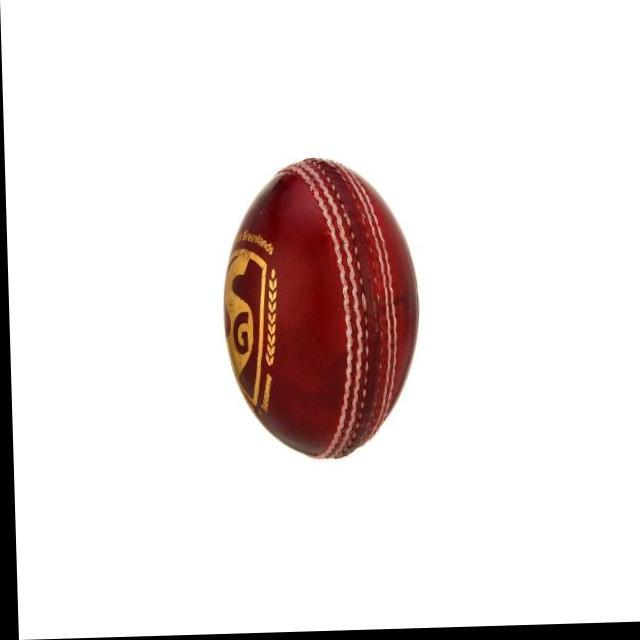cricket ball: (222, 160, 418, 463)
